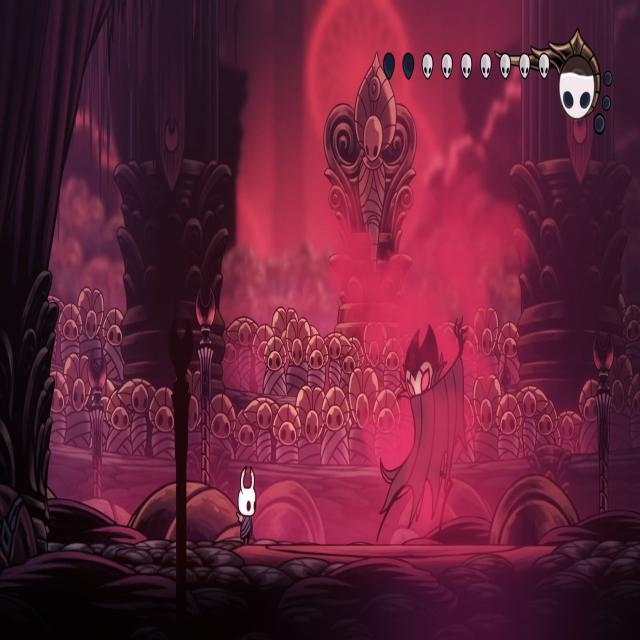Dash Uppercut: (374, 310, 474, 540)
Player: (233, 461, 260, 546)
